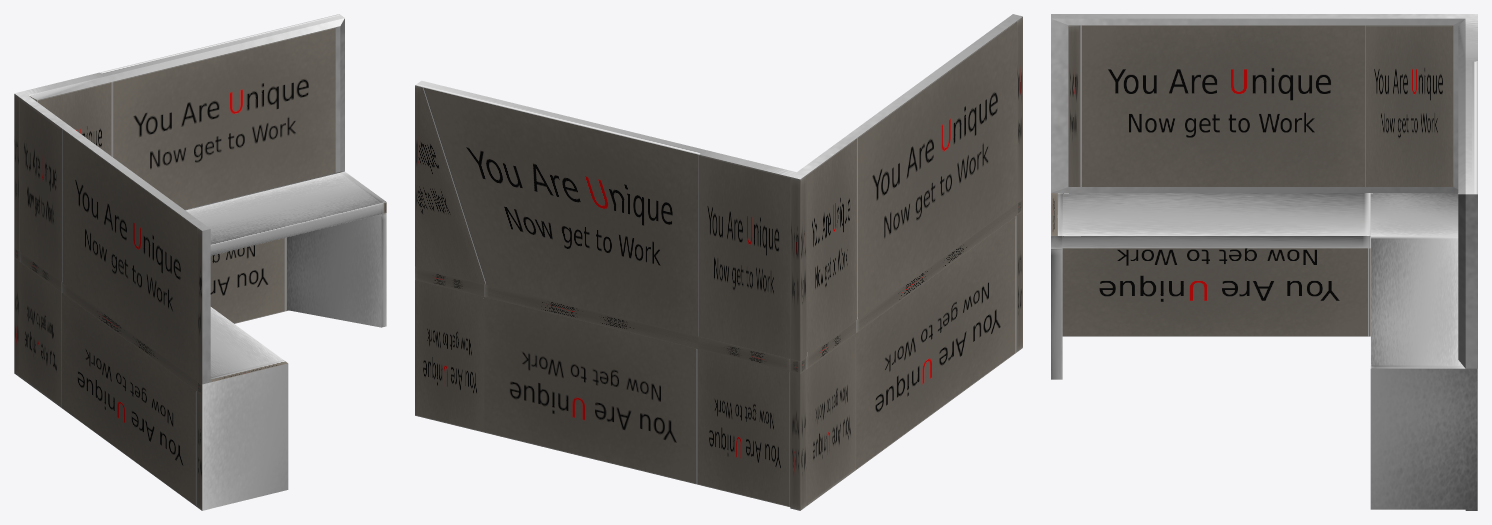
The model's file is cubicle.obj.
The picture shows the model from 3 angles, left to right: view 1: azimuth 30°, elevation 25°; view 2: azimuth 150°, elevation 25°; view 3: azimuth 270°, elevation 25°; orthographic projection. The views are drawn at different scales.
Visible parts, largest first — view 1: Cube; view 2: Cube; view 3: Cube.
Boxes of the visible parts, <box> form: Cube: <box>14,14,386,510</box>; Cube: <box>415,14,1022,510</box>; Cube: <box>1051,14,1477,510</box>.
Size of the model in its own units: 5.99 by 4.93 by 6.
